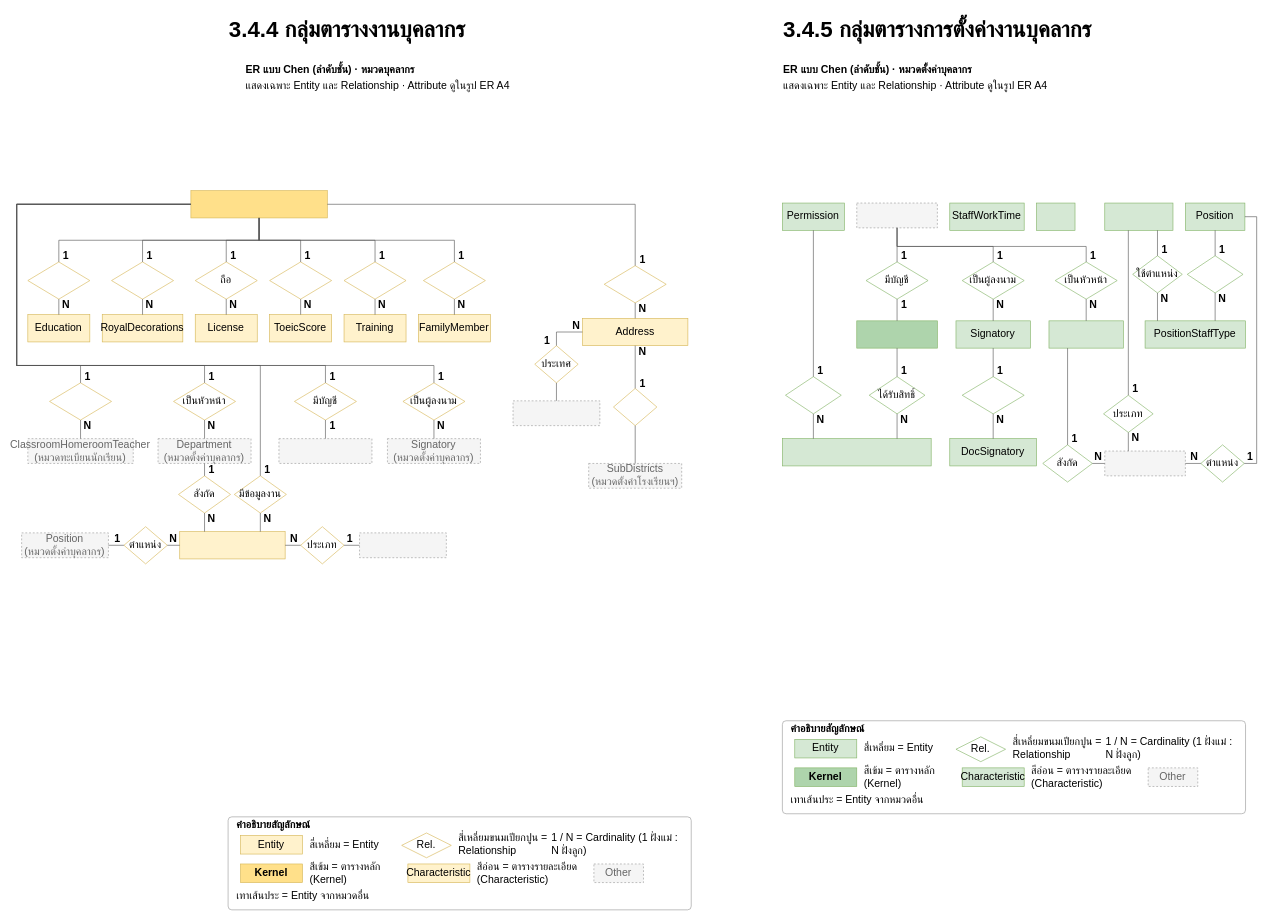
Image size: 1268x921. Some labels were removed from this diagram. Each missing label, with the box of its shape:
Countries (หมวดตั้งค่าโรงเรียนฯ): (512, 400, 600, 426)
Department: (1048, 320, 1123, 348)
Employees: (190, 190, 327, 218)
Employees (หมวดบุคลากร): (856, 202, 937, 228)
JobDetails: (179, 531, 285, 559)
JobDetails (หมวดบุคลากร): (1104, 450, 1185, 476)
Shift: (1036, 202, 1075, 230)
StaffType: (1104, 202, 1173, 230)
StaffType (หมวดตั้งค่าบุคลากร): (359, 532, 446, 558)
User: (856, 320, 937, 348)
User (หมวดตั้งค่าบุคลากร): (278, 438, 372, 463)
UserPermission: (782, 438, 931, 466)
จบการศึกษา: (27, 261, 90, 299)
ตำบล: (613, 388, 657, 426)
ประจำชั้น: (49, 382, 112, 420)
มอบให้: (785, 376, 841, 414)
มีครอบครัว: (423, 261, 485, 299)
มีที่อยู่: (604, 265, 666, 303)
ลงนามเอกสาร: (962, 376, 1024, 414)
สอบ: (269, 261, 332, 299)
อยู่ในประเภท: (1187, 255, 1243, 293)
เข้ารับ: (343, 261, 406, 299)
ได้รับ: (111, 261, 174, 299)
